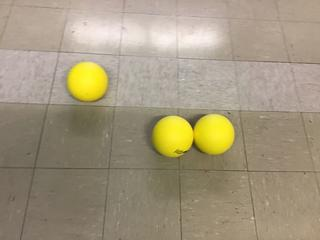power_cell: (150, 113, 195, 158), (193, 110, 238, 155), (68, 60, 111, 103)
